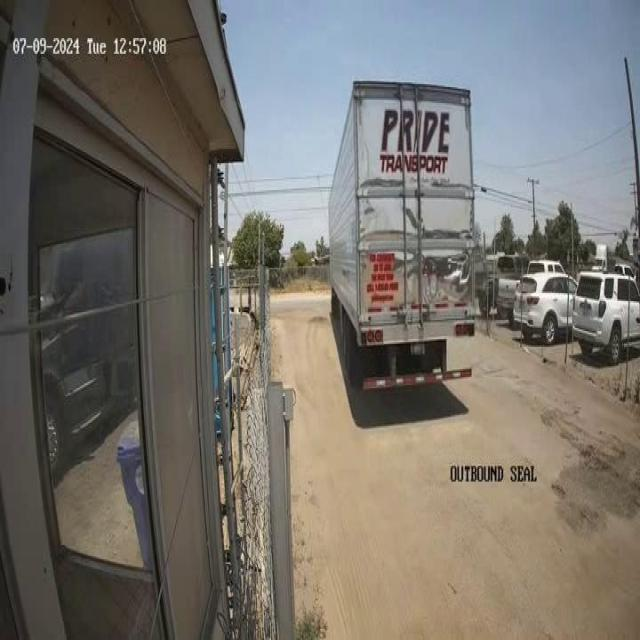TRUCK_OUT: (327, 78, 477, 351)
